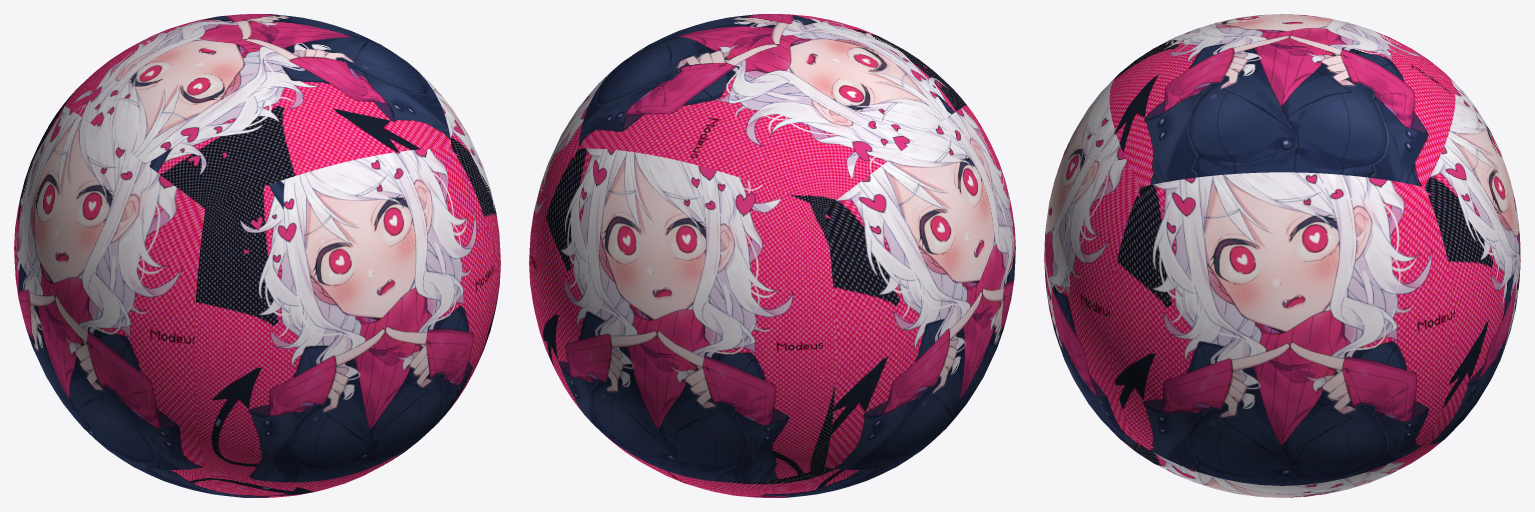
Rendered from modeus.gltf.
3 views of the same model, side by side, from view 1: azimuth 30°, elevation 25°; view 2: azimuth 150°, elevation 25°; view 3: azimuth 270°, elevation 25° (orthographic).
Parts seen in each view (by area): view 1: Cube; view 2: Cube; view 3: Cube.
Boxes of the visible parts, x1,y1,x2,y2 form: Cube: (14, 14, 500, 497); Cube: (529, 14, 1015, 497); Cube: (1044, 14, 1520, 497).
Size of the model in its own units: 1.68 by 1.68 by 1.68.
Materials: 1 (1 with a texture image).
